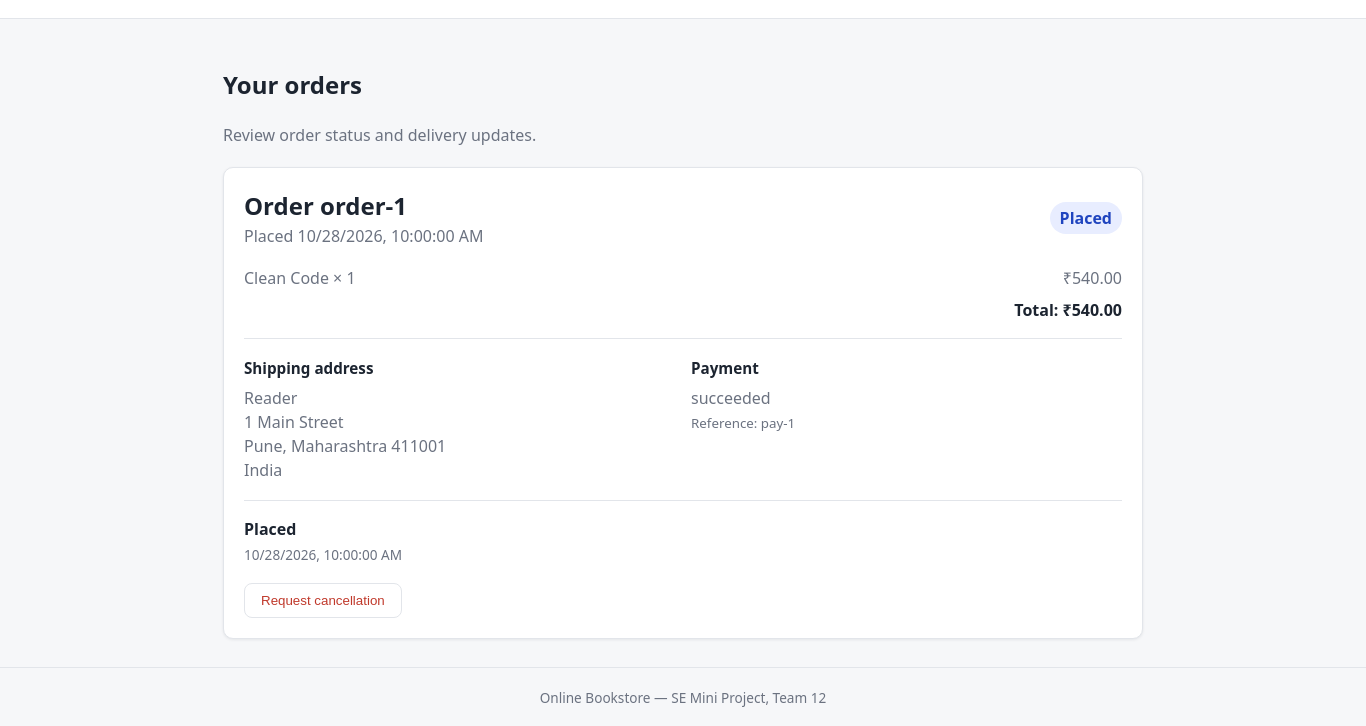
it: catalogue frontend › shows buyer order tracking and submits cancellation requests
Expected: the heading "Your orders" is shown, [223,68,362,101]
Expected: the heading "Order order-1" is shown, [244,189,407,222]
Click the button "Request cancellation" at (323, 600), box [244,583,402,618]
(page scrolled)
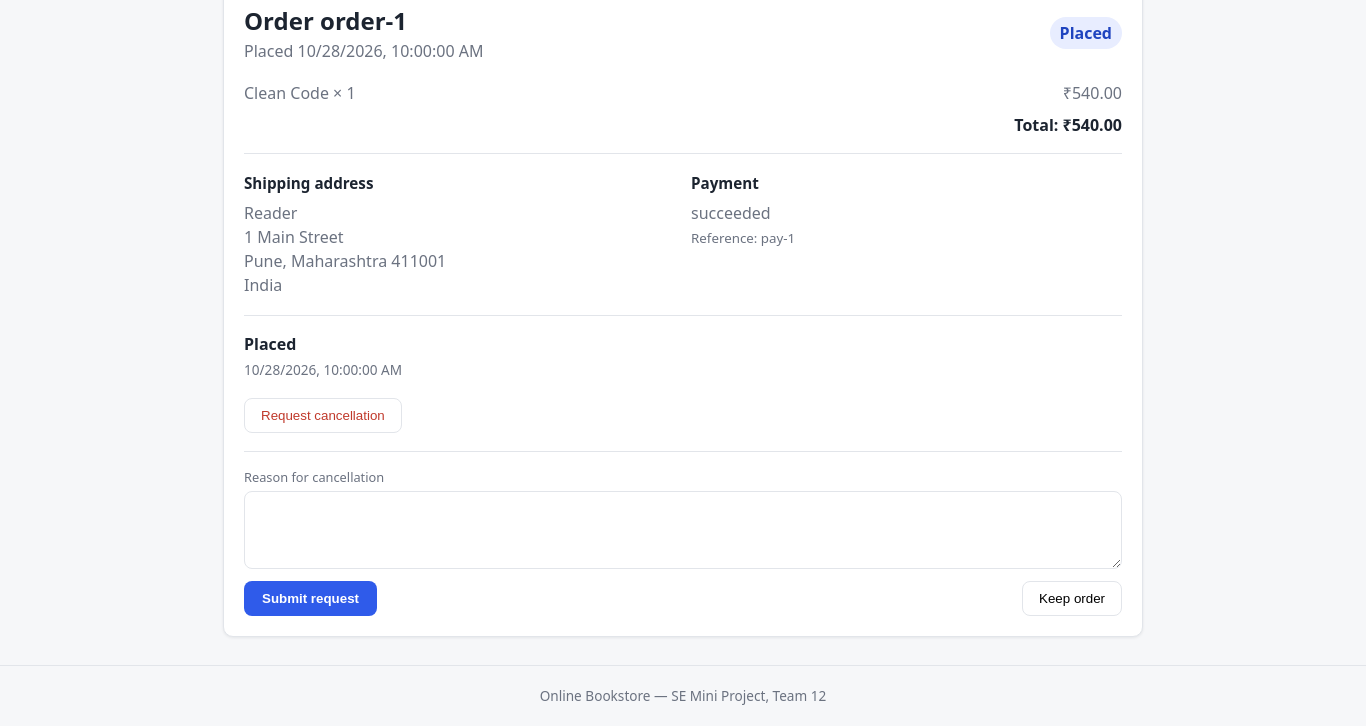
Type "Ordered by mistake" into the text box labelled "Reason for cancellation" at (683, 530), box [244,491,1122,569]
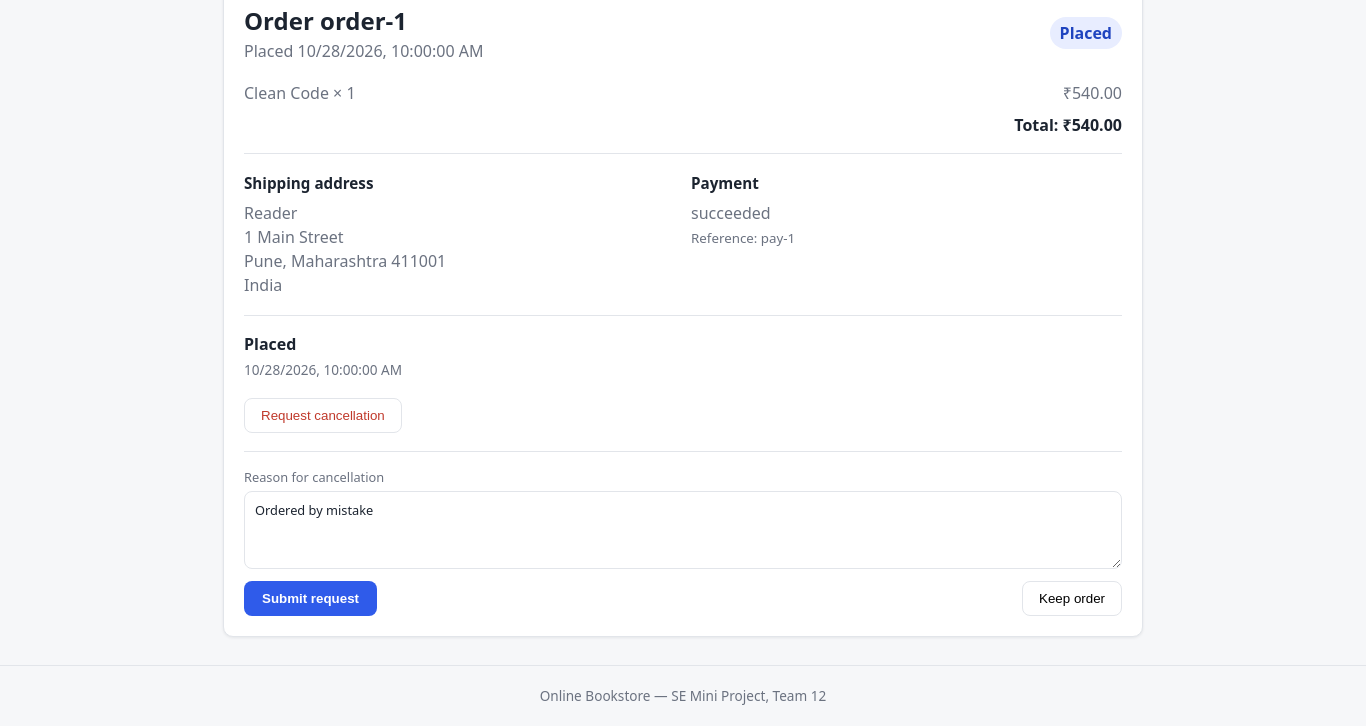
Click the button "Submit request" at (310, 598), box [244,581,377,616]
(page scrolled)
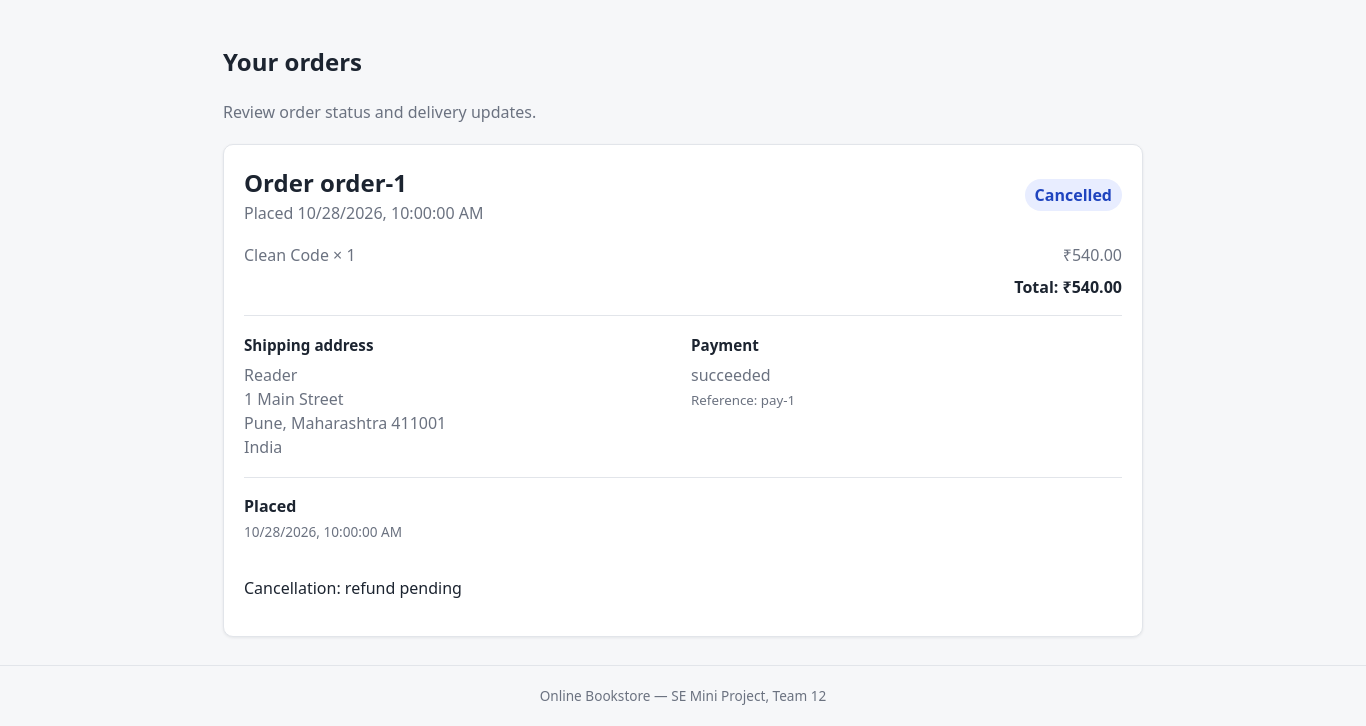
Result: the text "Cancellation: refund pending" is shown at [244,577,462,599]
